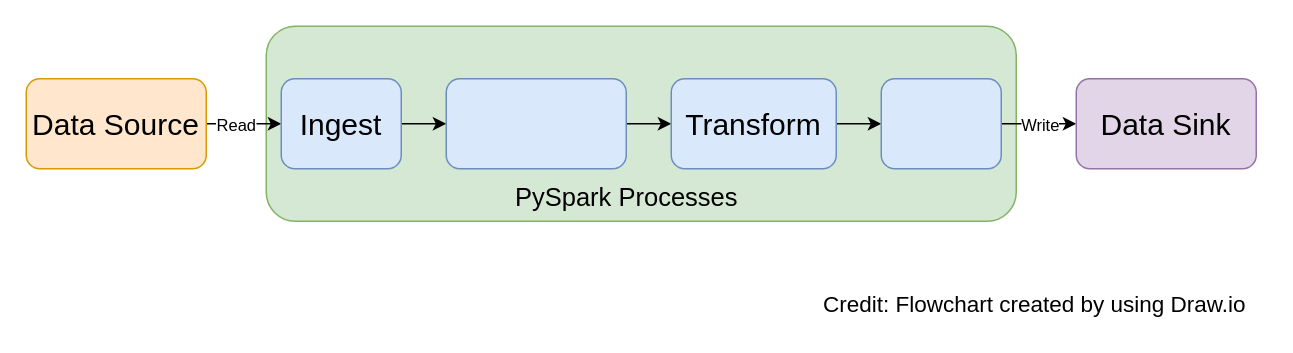
This 1293x353 diagram has some shape labels left out. The shapes that lost their labels are listed below. From the top down, each one's centre as x and y in pixels, then its label:
At point 535,123: "PreProcess".
At point 940,123: "Load".
